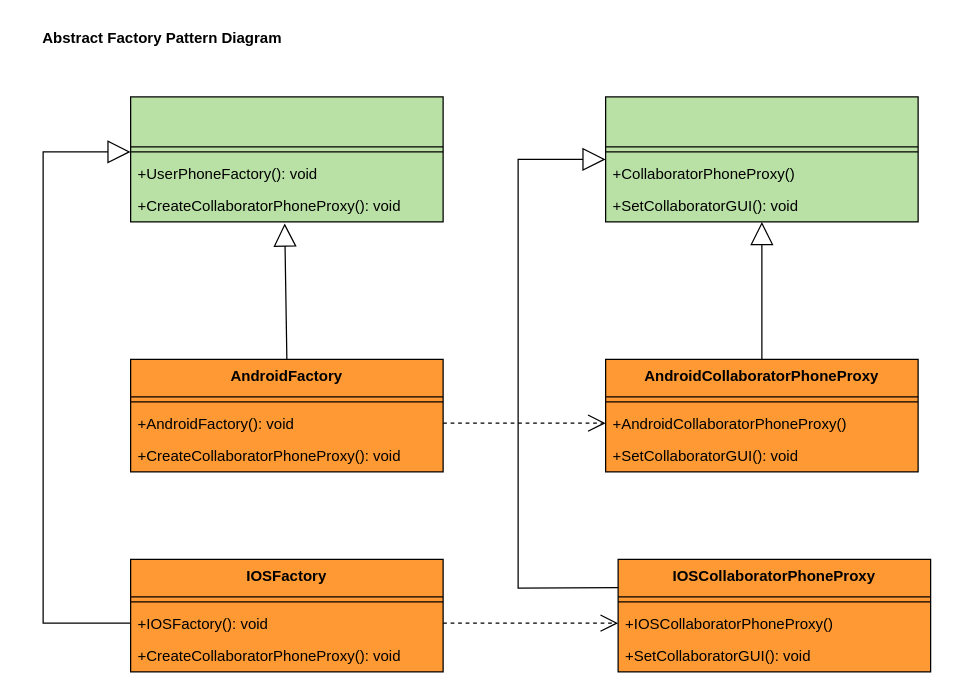
Image size: 953x696. Some labels were removed from this diagram. The box of each missing label's shape, as (x1, y1, x2, y2) in pixels:
<<Abstract>> CollaboratorPhoneProxy: (604, 96, 918, 222)
<<Abstract>> UserPhoneFactory: (129, 96, 443, 222)
